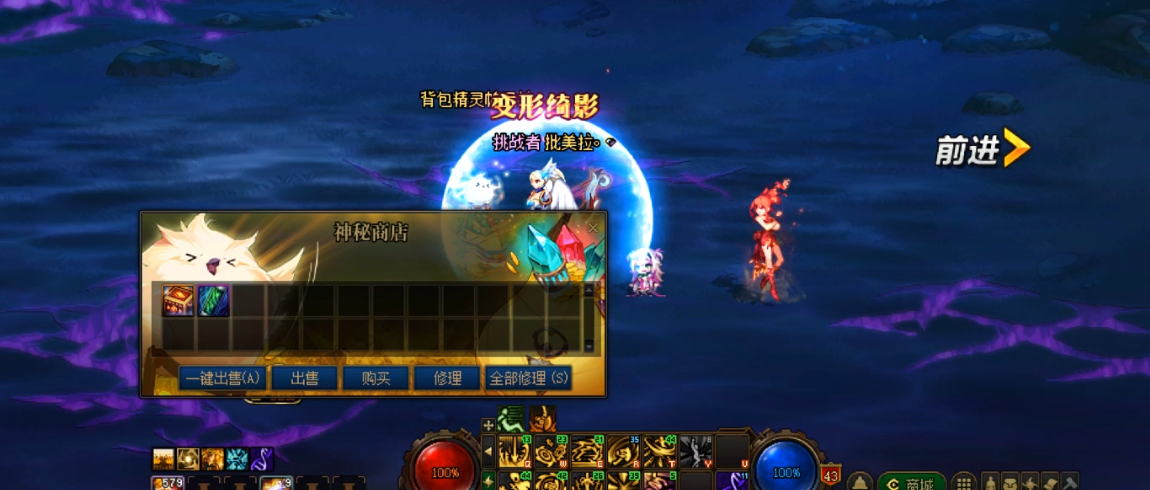smsd: (333, 220, 412, 246)
